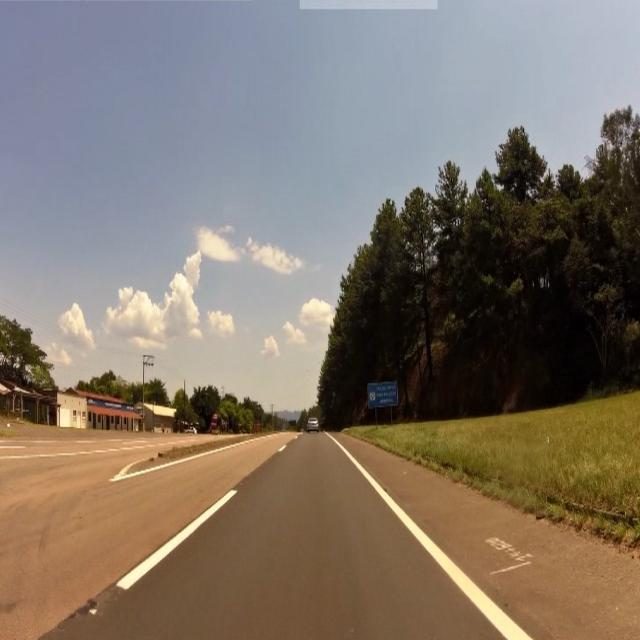LOC-6: (368, 384, 400, 408)
